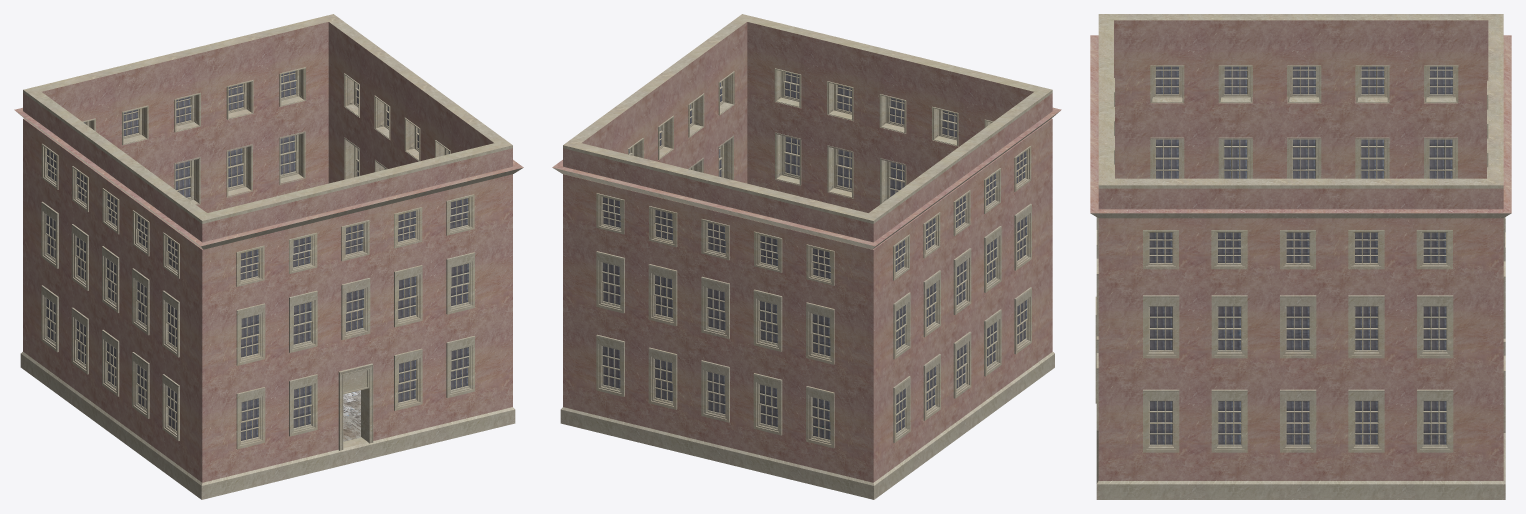
The model's file is REDOO.fbx.
3 views of the same model, side by side, from view 1: azimuth 30°, elevation 25°; view 2: azimuth 150°, elevation 25°; view 3: azimuth 270°, elevation 25° (orthographic). The views are drawn at different scales.
Parts seen in each view (by area): view 1: Plane.007, Plane.000; view 2: Plane.007; view 3: Plane.007.
Part boxes in pixels (<box>): Plane.007: <box>14,14,523,499</box>; Plane.000: <box>338,363,373,450</box>; Plane.007: <box>552,14,1061,499</box>; Plane.007: <box>1090,14,1511,499</box>.
Bounding box in the file's own units: 811 × 667 × 811.
